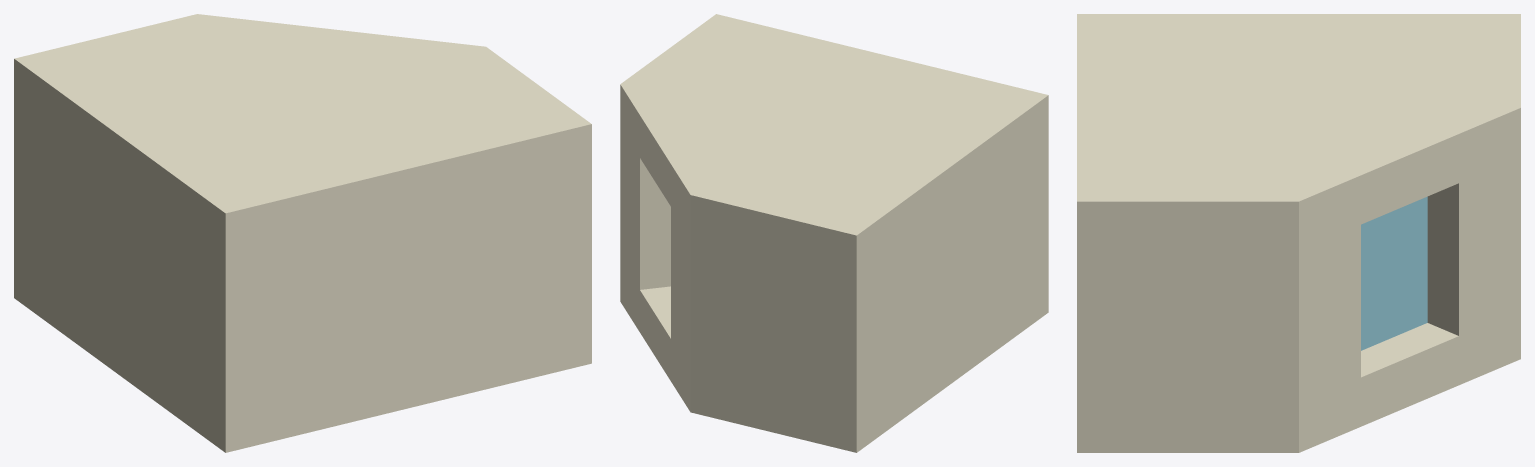
Rendered from building_049.fbx.
The picture shows the model from 3 angles, left to right: view 1: azimuth 30°, elevation 25°; view 2: azimuth 150°, elevation 25°; view 3: azimuth 270°, elevation 25°; orthographic projection. The views are drawn at different scales.
Parts seen in each view (by area): view 1: building_049; view 2: building_049; view 3: building_049.
Part boxes in pixels (x1,y1,x2,y2): building_049: (14, 14, 591, 452); building_049: (620, 14, 1048, 452); building_049: (1077, 14, 1520, 452).
Bounding box in the file's own units: 10 × 6.25 × 10.
